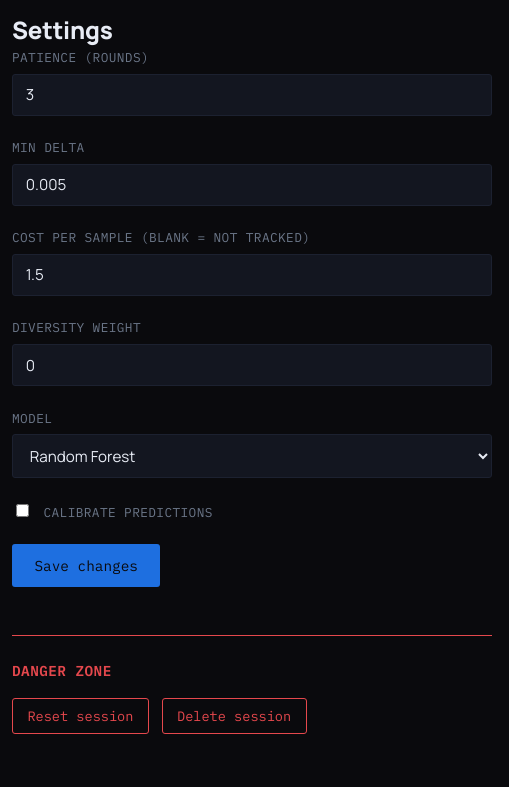
it: SettingsPage › saves changed settings and shows a confirmation
The image size is (509, 787).
Replace the text in the number field labelled "Patience (rounds)" with "7". click: (252, 95)
box: top-left (12, 74), bottom-right (492, 116)
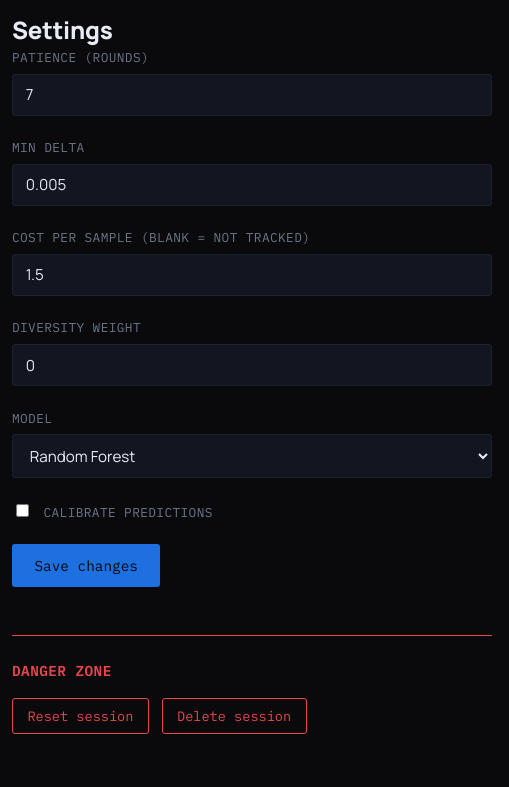
Click the button "Save changes". click: (86, 566)
box: top-left (12, 544), bottom-right (160, 587)
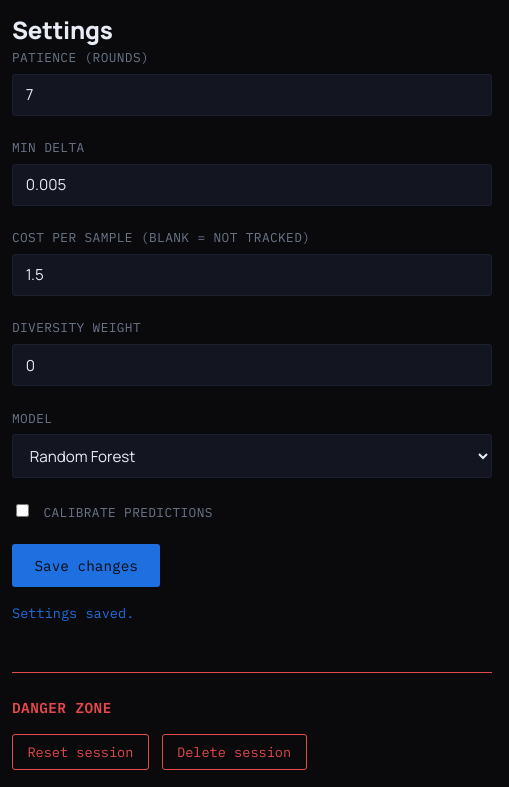
Expected: the text "Settings saved." is shown, top-left (12, 604), bottom-right (134, 622)
